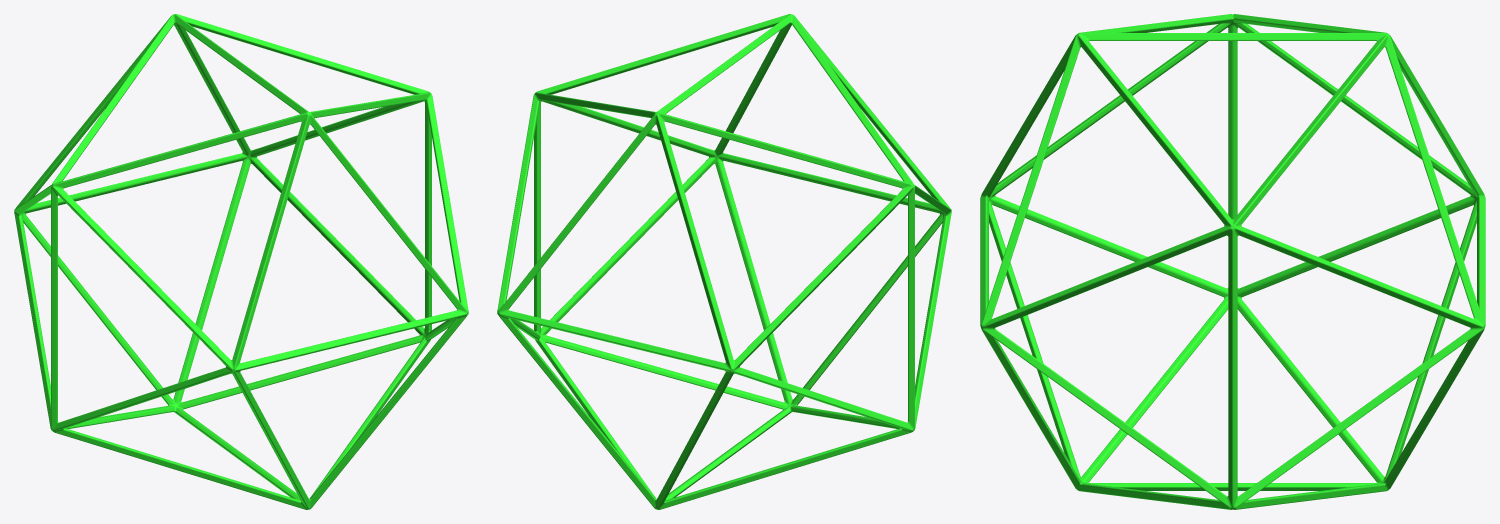
Rendered from Wireicosahedron.obj.
3 renders of one model, left to right at view 1: azimuth 30°, elevation 25°; view 2: azimuth 150°, elevation 25°; view 3: azimuth 270°, elevation 25°, orthographic. The views are drawn at different scales.
Visible parts, largest first — view 1: Wireicosahedron; view 2: Wireicosahedron; view 3: Wireicosahedron.
Boxes of the visible parts, left/top/right/bottom form: Wireicosahedron: left=14, top=14, right=468, bottom=509; Wireicosahedron: left=497, top=14, right=951, bottom=509; Wireicosahedron: left=980, top=14, right=1485, bottom=509.
Bounding box in the file's own units: 1 × 1 × 1.
